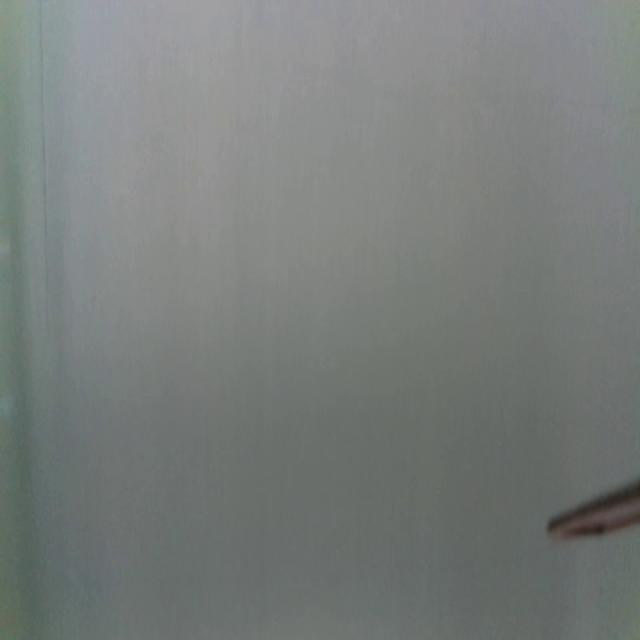crease: (38, 0, 51, 338)
